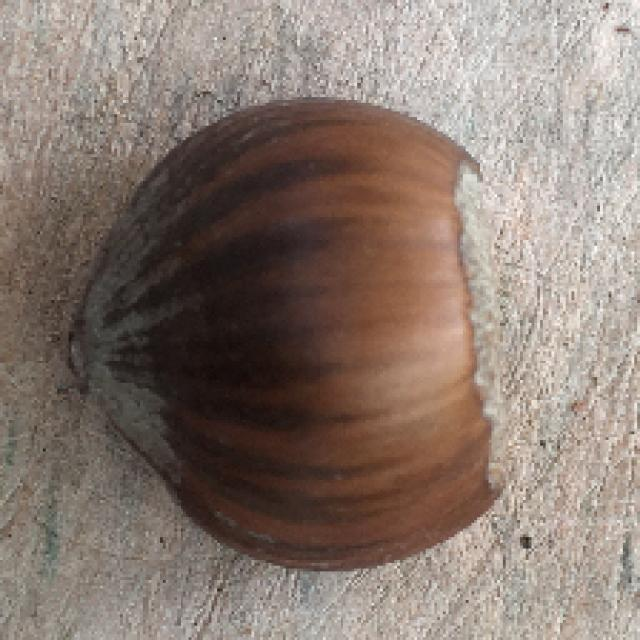qualityHazelnut: (66, 104, 521, 575)
